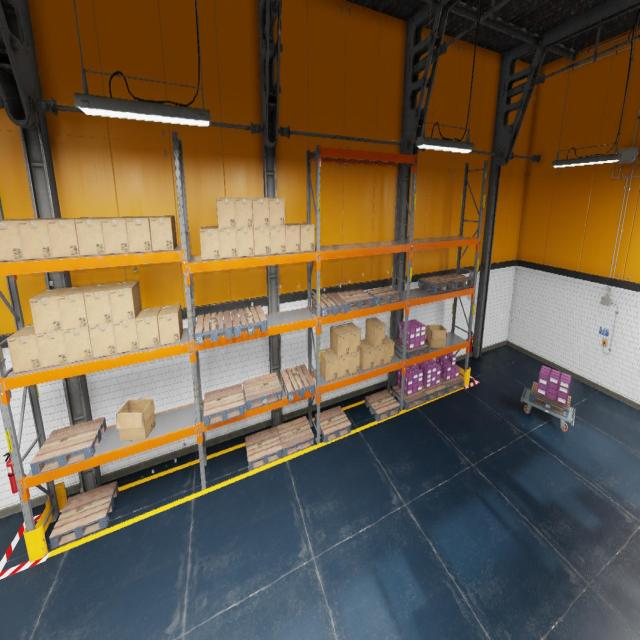box: (30, 288, 70, 334), (17, 218, 59, 260), (116, 398, 156, 441), (7, 324, 41, 373), (57, 285, 94, 330), (47, 217, 85, 258), (108, 280, 142, 322), (84, 283, 117, 326), (74, 217, 110, 256), (0, 219, 32, 261), (36, 331, 68, 368), (101, 217, 133, 254), (136, 306, 161, 349), (158, 303, 183, 345), (62, 327, 92, 362), (125, 216, 153, 252), (149, 216, 177, 250), (89, 323, 116, 358), (112, 319, 138, 354), (199, 226, 220, 260), (330, 324, 350, 356), (320, 347, 338, 382), (216, 197, 236, 228), (342, 322, 361, 354), (366, 317, 386, 347), (218, 228, 238, 258), (331, 348, 349, 378), (252, 198, 270, 227), (235, 198, 253, 227), (366, 339, 384, 367), (296, 223, 314, 251), (236, 228, 254, 256), (253, 227, 270, 256), (426, 325, 446, 348), (270, 226, 286, 254), (269, 198, 285, 226), (360, 339, 374, 370), (286, 223, 300, 253), (384, 335, 394, 364), (349, 352, 360, 374)
pallets: (49, 481, 118, 548), (30, 416, 106, 476), (203, 383, 244, 427), (245, 426, 283, 471), (243, 372, 282, 411), (277, 416, 314, 457), (529, 382, 571, 418), (315, 405, 351, 443), (280, 364, 315, 401), (195, 310, 232, 345), (365, 389, 400, 422), (231, 305, 267, 337), (312, 292, 347, 317), (336, 289, 374, 311), (392, 386, 427, 409), (366, 286, 401, 306), (394, 339, 428, 358), (418, 276, 455, 292), (438, 273, 473, 289), (422, 382, 447, 401), (440, 376, 464, 394)
